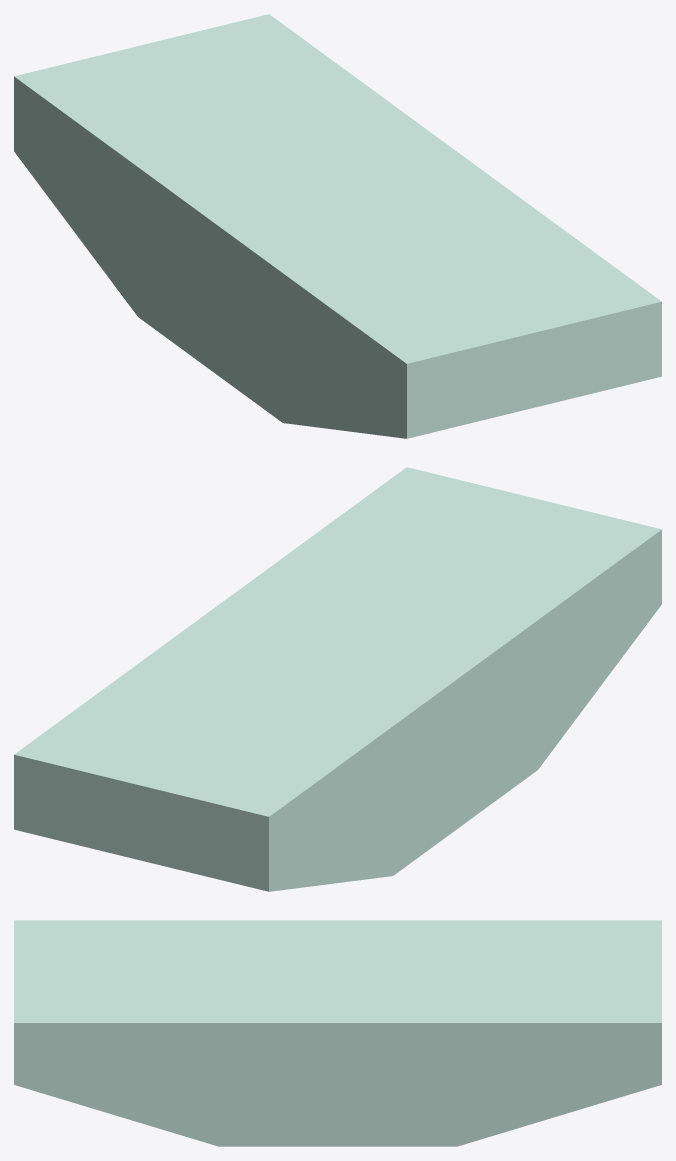
The picture shows the model from 3 angles, top to bottom: view 1: azimuth 30°, elevation 25°; view 2: azimuth 150°, elevation 25°; view 3: azimuth 270°, elevation 25°; orthographic projection. The views are drawn at different scales.
Visible parts, largest first — view 1: Renderer Node; view 2: Renderer Node; view 3: Renderer Node.
Boxes of the visible parts, x1,y1,x2,y2 form: Renderer Node: [14, 14, 661, 438]; Renderer Node: [14, 467, 661, 891]; Renderer Node: [14, 920, 661, 1146].
Bounding box in the file's own units: 0.5625 × 0.3158 × 1.5.
